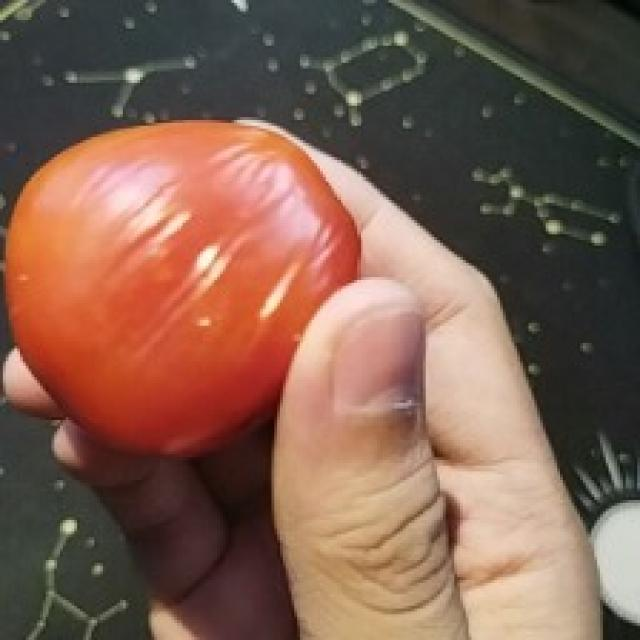Rotten Tomato: (0, 106, 374, 470)
